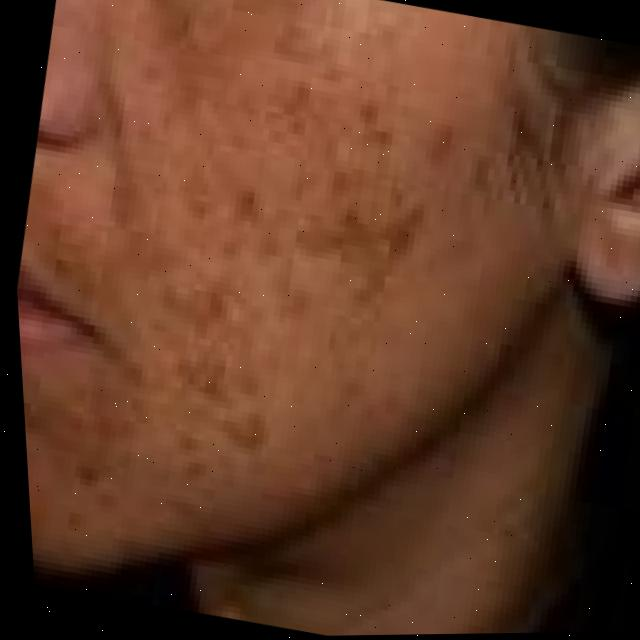Melasma: (38, 0, 494, 576)
